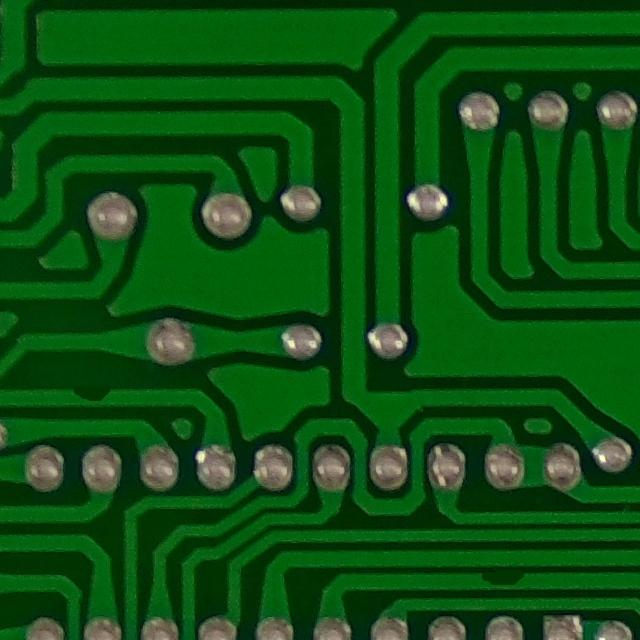mouse_bite: (466, 561, 535, 595), (62, 377, 121, 410)
